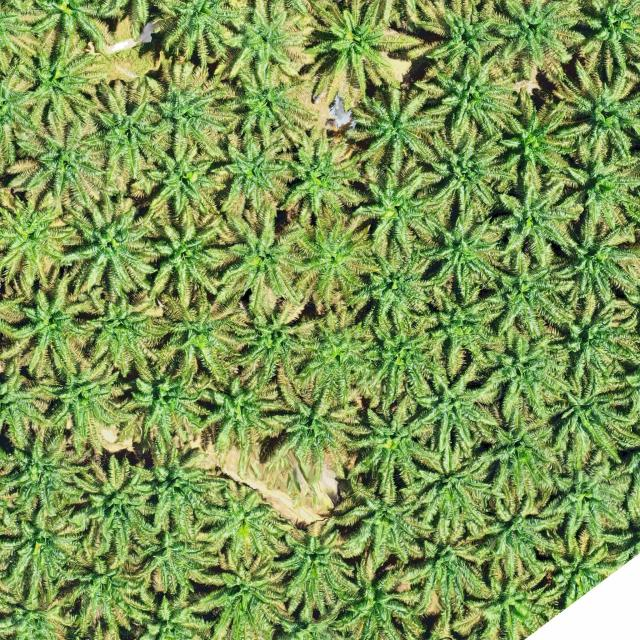Tree: (48, 191, 158, 305), (130, 429, 230, 542), (294, 0, 402, 102), (143, 51, 241, 161), (404, 354, 502, 464), (64, 454, 158, 567), (412, 44, 522, 140), (0, 265, 93, 377), (547, 59, 640, 170), (467, 477, 567, 580), (287, 207, 385, 311), (342, 160, 442, 261), (330, 474, 436, 569), (180, 358, 288, 451), (195, 475, 297, 573), (262, 362, 362, 461), (26, 343, 130, 438), (546, 361, 639, 467), (543, 442, 633, 550), (217, 0, 319, 94), (409, 512, 499, 618), (344, 396, 432, 504), (150, 286, 246, 385), (76, 75, 162, 185), (76, 284, 183, 372), (54, 545, 158, 635), (474, 393, 561, 499), (480, 326, 574, 424), (191, 546, 289, 640), (406, 125, 505, 218), (342, 84, 442, 176), (404, 445, 496, 544), (0, 496, 86, 601), (486, 247, 579, 344), (12, 25, 106, 119), (0, 423, 94, 517), (225, 292, 317, 388), (479, 0, 584, 84), (137, 212, 226, 311), (496, 173, 588, 268), (486, 92, 574, 191), (557, 144, 640, 248), (544, 288, 640, 377), (275, 124, 364, 220), (230, 56, 318, 153), (208, 205, 290, 308), (275, 523, 362, 619), (553, 206, 636, 306), (7, 112, 98, 202), (212, 126, 299, 218), (141, 0, 253, 70), (0, 186, 68, 299), (358, 310, 444, 398), (410, 209, 502, 288), (135, 141, 224, 219), (425, 276, 509, 358), (406, 0, 506, 67), (363, 234, 439, 318), (296, 302, 377, 378), (130, 517, 208, 595), (114, 366, 198, 435)
